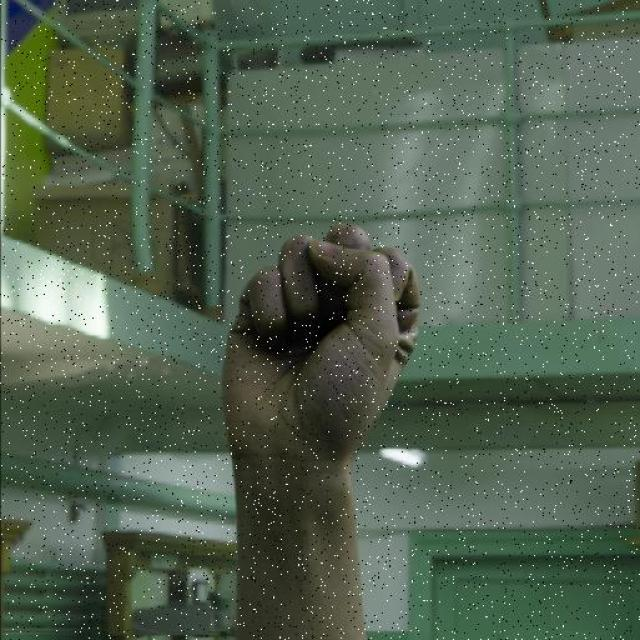S: (218, 220, 424, 476)
